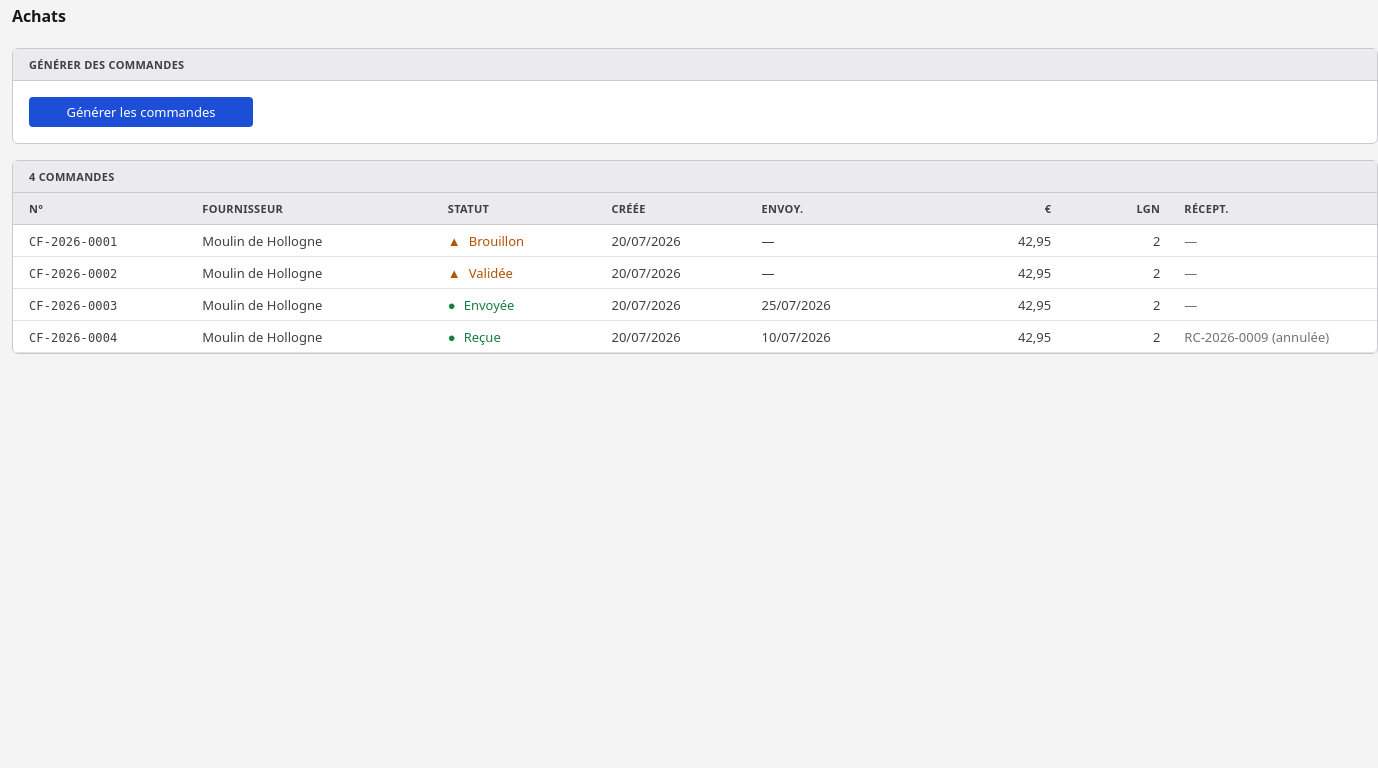
Test: Achats — D-009 : générer, valider, envoyer, dans cet ordre et pas un autre › un refus de validation garde la commande en brouillon et dit pourquoi
Click the row "CF-2026-0001".
click(695, 241)  # box [13,225,1377,257]
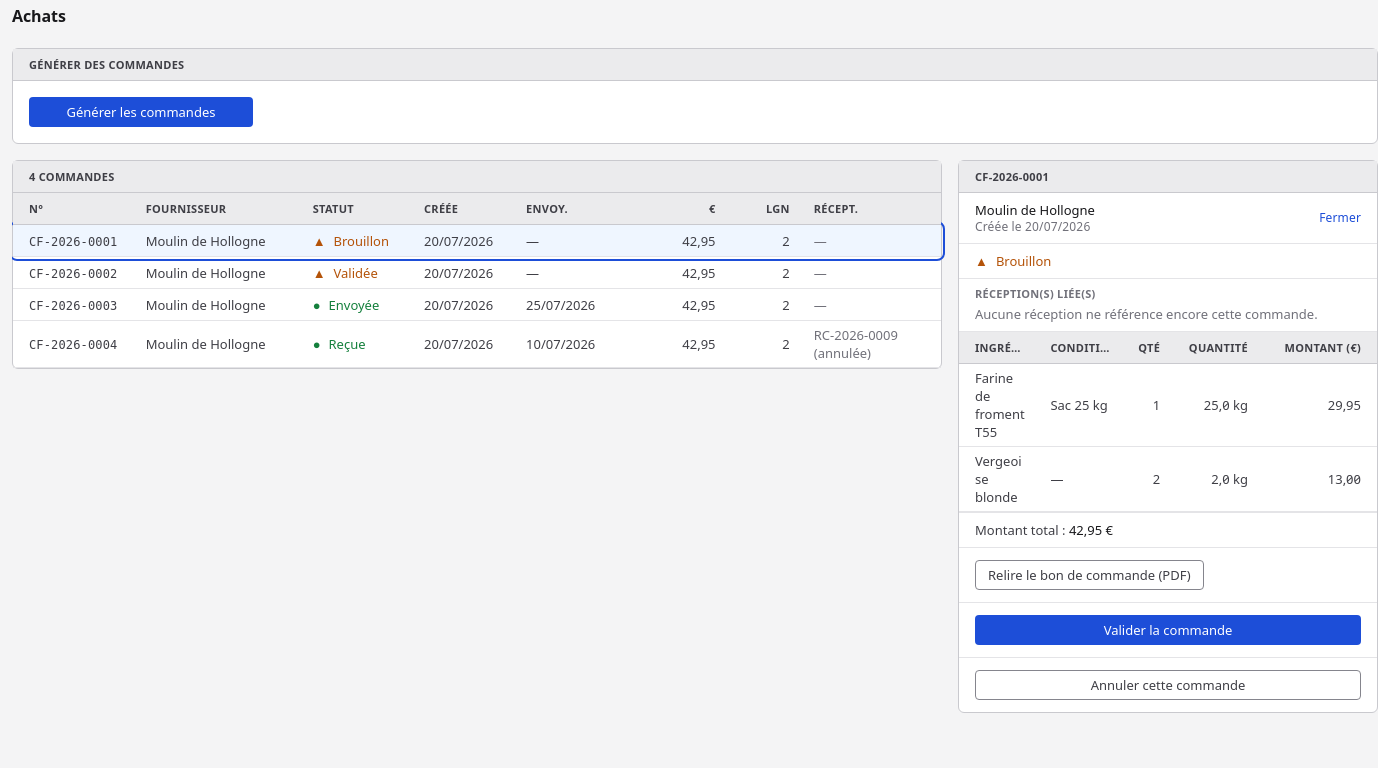
Expected: the heading "CF-2026-0001" is shown, [959,161,1377,193]
Click the button "Valider la commande".
click(1168, 630)  # box [975,615,1361,645]
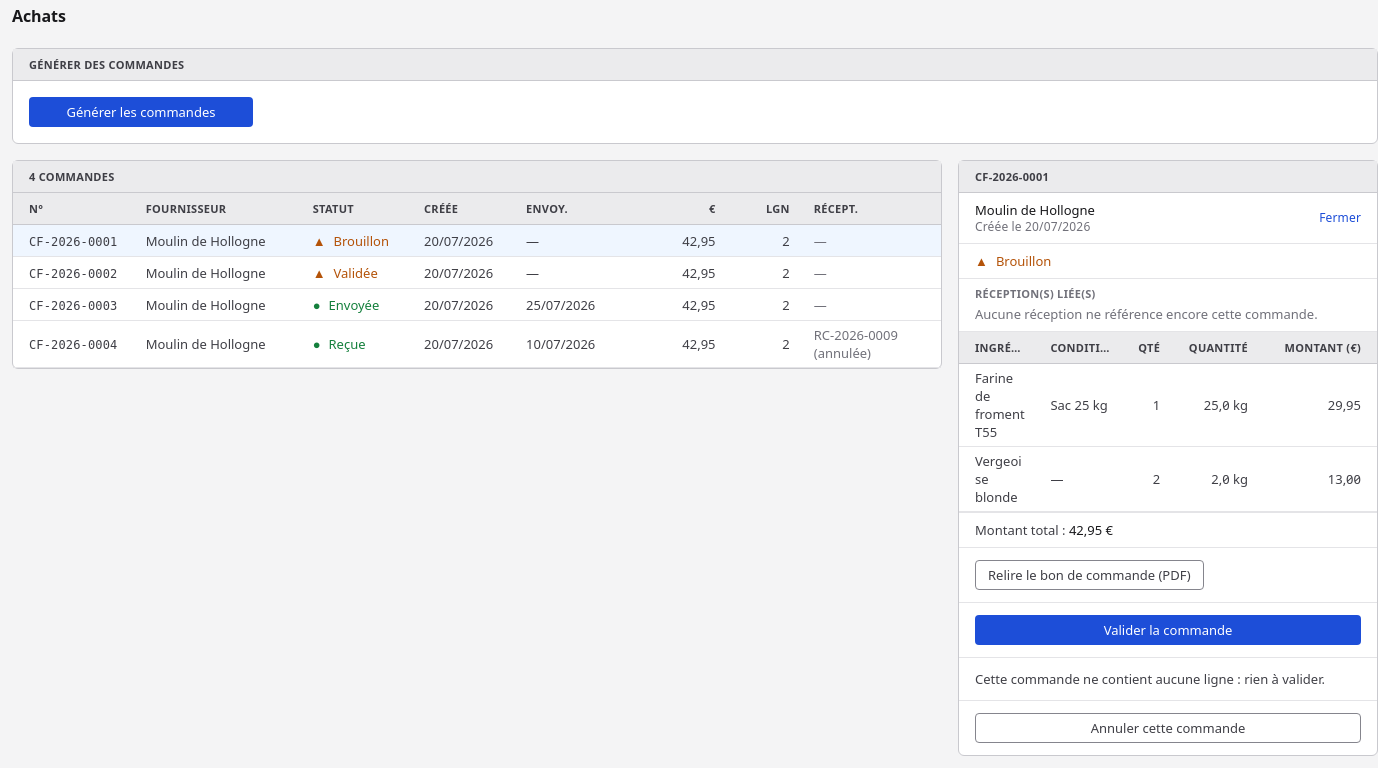
Expected: the button "Valider la commande" is shown, [975,615,1361,645]
Expected: the message shows "aucune ligne", [975,670,1325,688]
